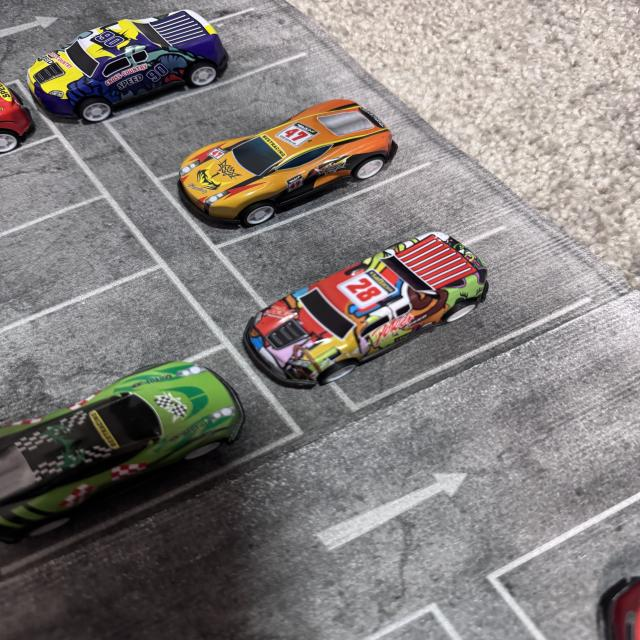car: (0, 357, 285, 585), (168, 98, 452, 275), (210, 224, 500, 388), (3, 0, 242, 139)
